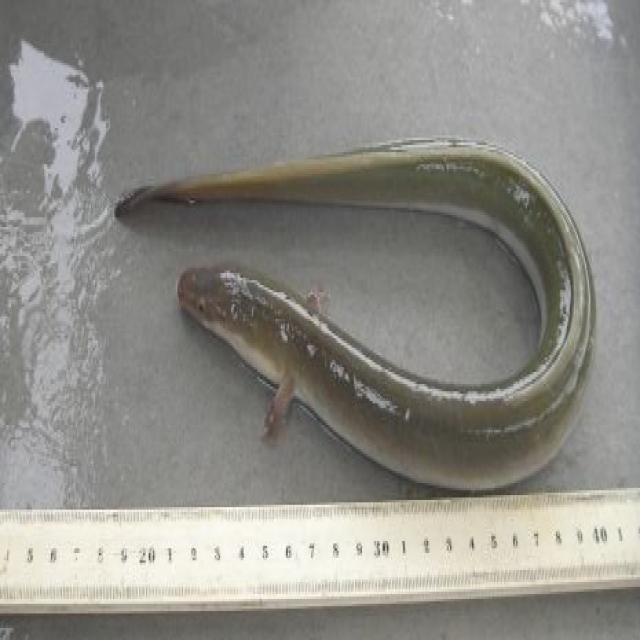Freshwater-Eel: (92, 126, 624, 511)
